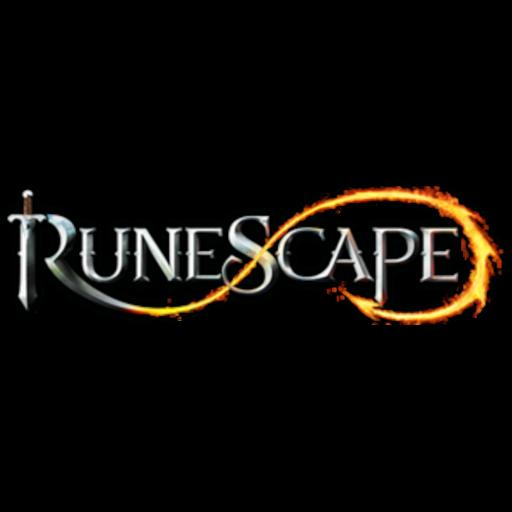RuneScape: (0, 186, 512, 325)
